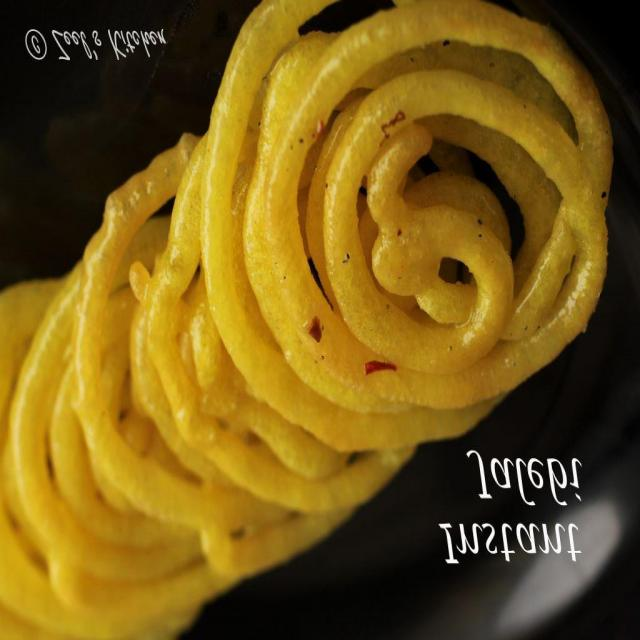jalebi: (0, 1, 611, 640)
